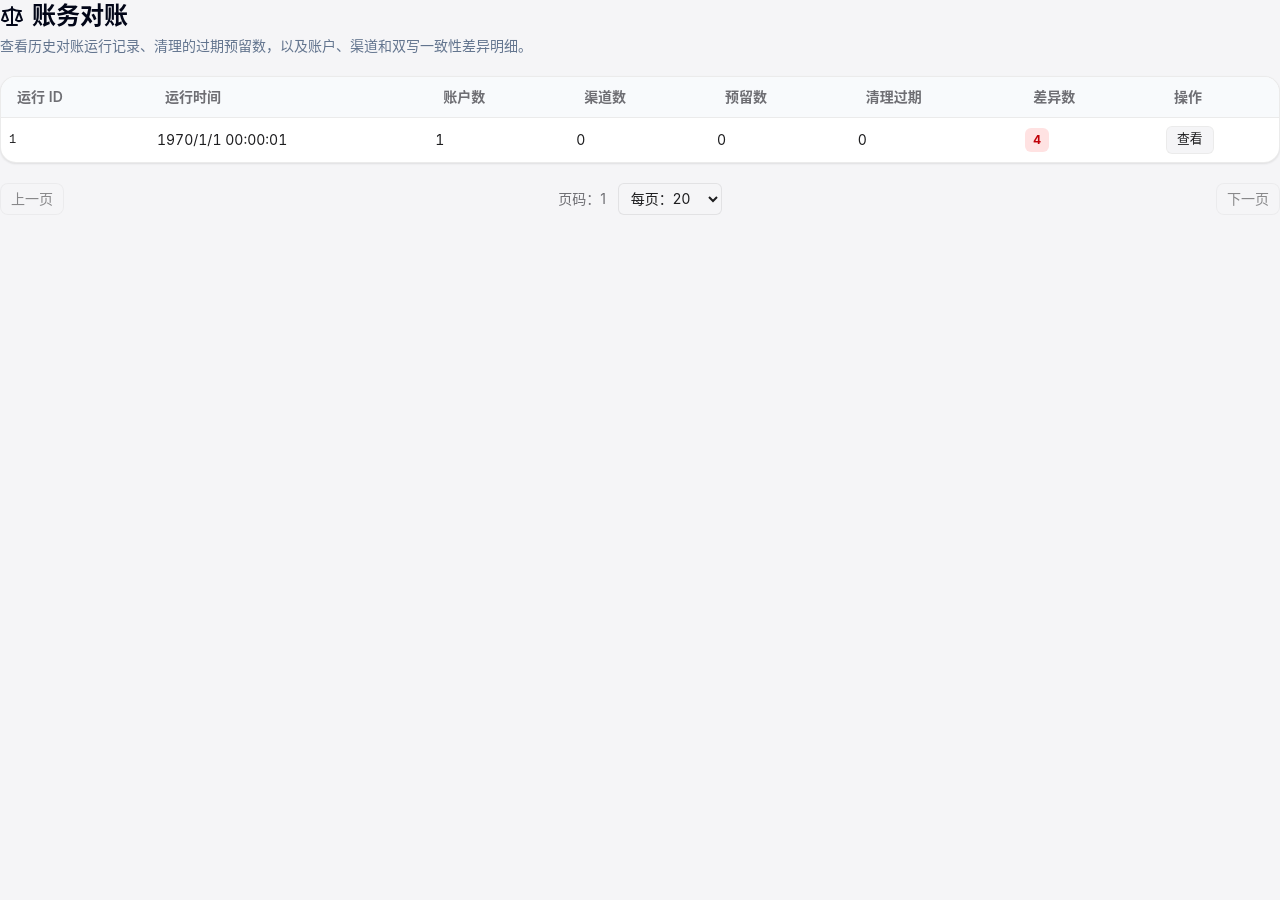
Test case: shows wallet and subscription differences precisely while preserving the CNY units of old refund runs
Click the button with aria-label "查看对账 1" at (1190, 140), box x1=1166 y1=126 x2=1214 y2=154
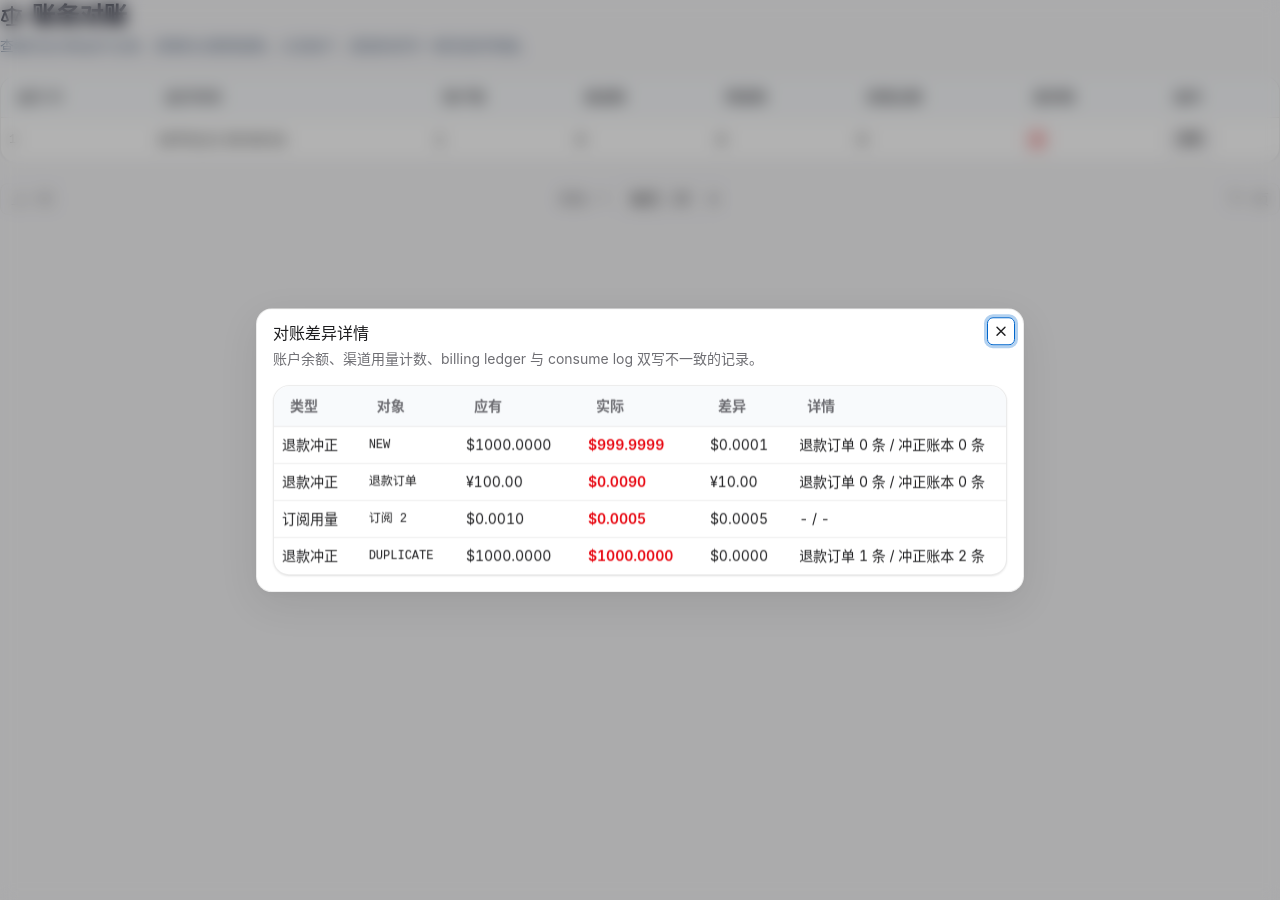
Now the text "$1000.0000" next to "NEW" is shown, box x1=466 y1=436 x2=551 y2=453
Now the text "$999.9999" is shown, box x1=580 y1=426 x2=702 y2=463
Now the text "$0.0001" is shown, box x1=702 y1=426 x2=791 y2=463
